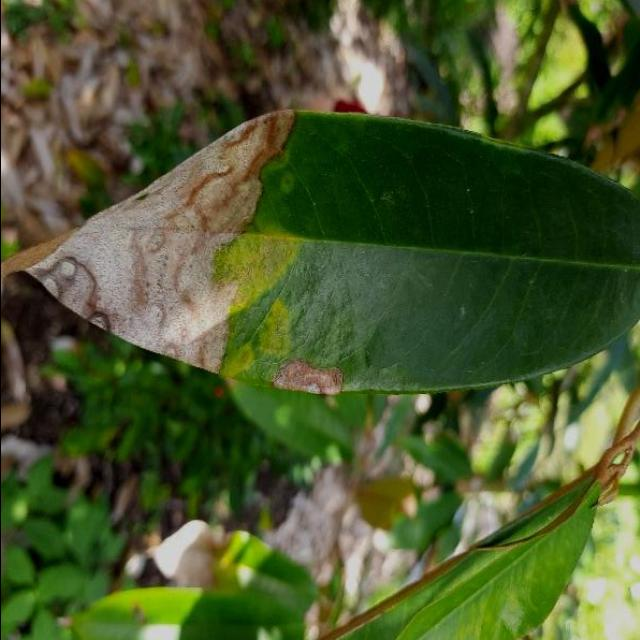Leaf Blight: (0, 86, 640, 418)
